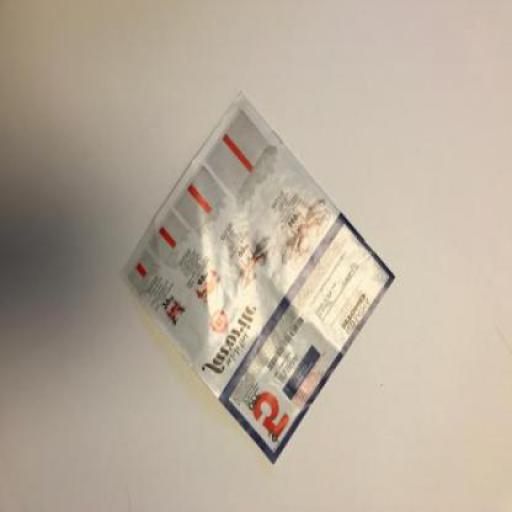paper: (119, 87, 400, 463)
